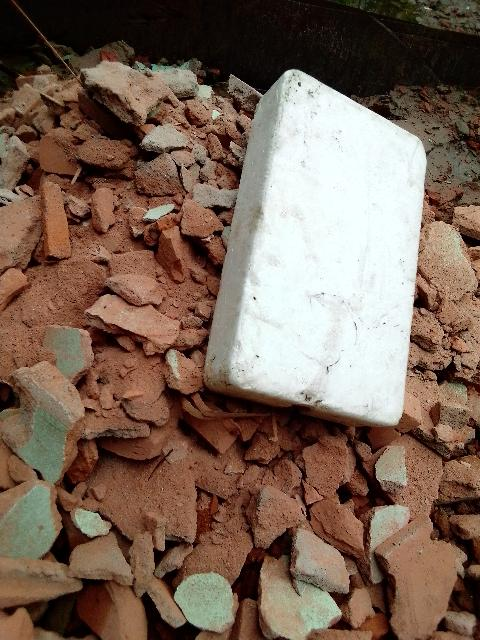cocksheet: (192, 42, 436, 440)
